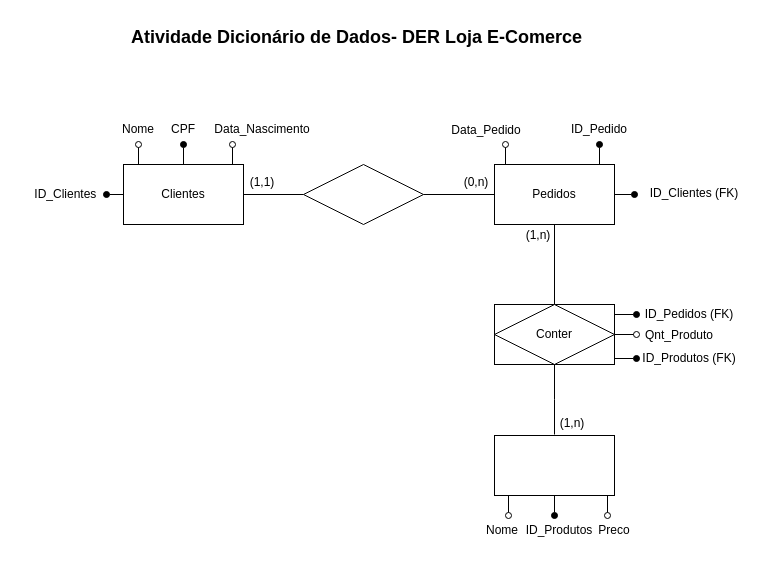
The diagram is 761 pixels wide and 562 high, and some of its shapes have lost their labels. The box of each missing label's shape, as (x1, y1, x2, y2) in pixels:
Produtos: (494, 434, 614, 496)
Realizar: (302, 164, 424, 224)
